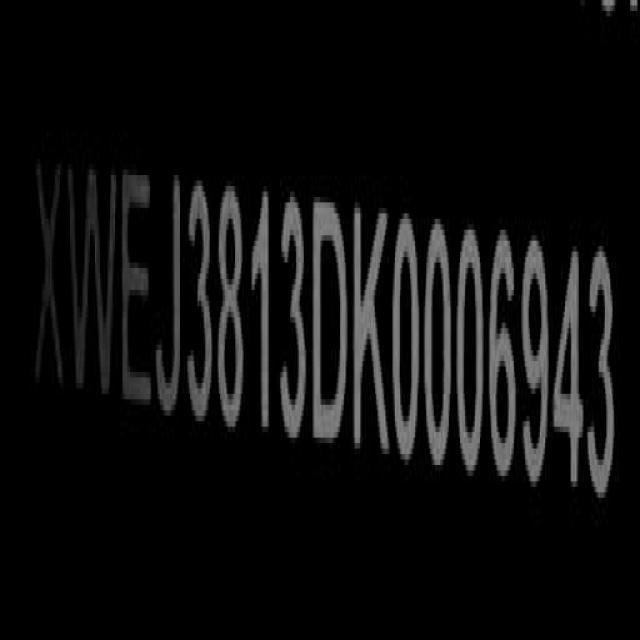0: (424, 219, 453, 474), (395, 206, 423, 467), (455, 219, 483, 479)
1: (254, 188, 274, 446)
3: (591, 246, 621, 510), (282, 188, 310, 454), (189, 178, 216, 436)
4: (552, 243, 583, 501)
6: (487, 219, 518, 470)
8: (217, 181, 245, 441)
9: (522, 241, 550, 494)
D: (313, 191, 349, 454)
E: (119, 160, 154, 421)
J: (156, 171, 183, 429)
K: (354, 198, 389, 465)
W: (70, 151, 119, 413)
X: (34, 151, 67, 409)
